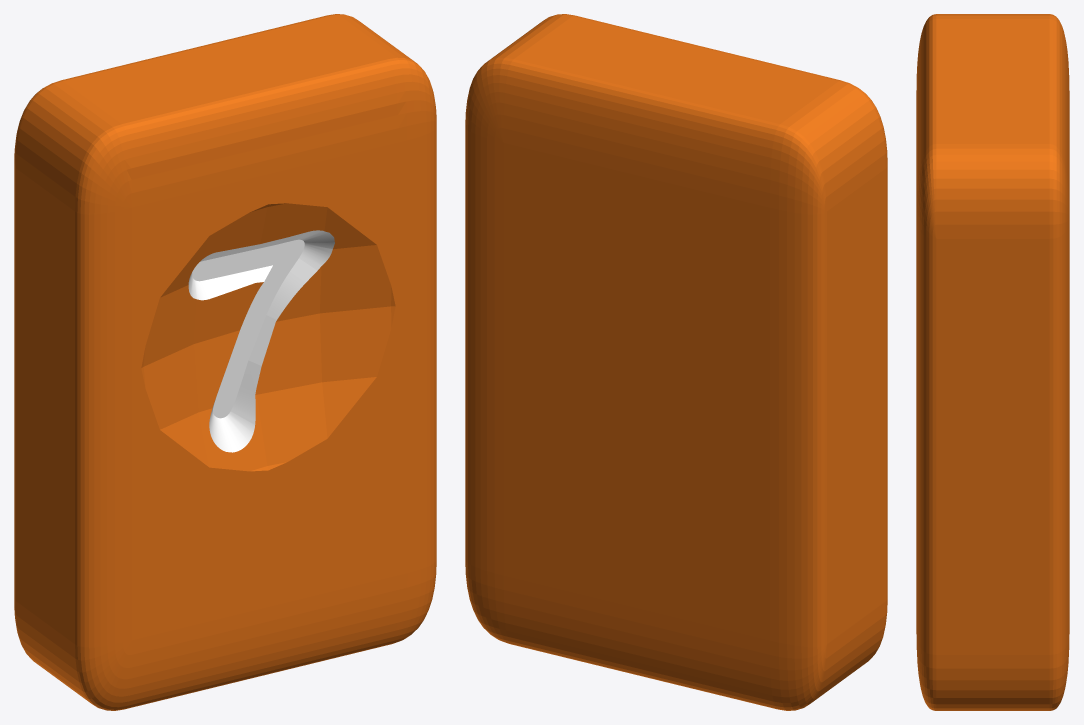
The model's file is Rummikub Card 7.FBX.
3 renders of one model, left to right at view 1: azimuth 30°, elevation 25°; view 2: azimuth 150°, elevation 25°; view 3: azimuth 270°, elevation 25°, orthographic. The views are drawn at different scales.
Parts seen in each view (by area): view 1: CardModel; view 2: CardModel; view 3: CardModel.
Part boxes in pixels (bbox=[...]): CardModel: bbox=[14, 14, 436, 710]; CardModel: bbox=[465, 14, 887, 710]; CardModel: bbox=[916, 14, 1069, 710].
Bounding box in the file's own units: 44.87 × 69.66 × 17.19.
